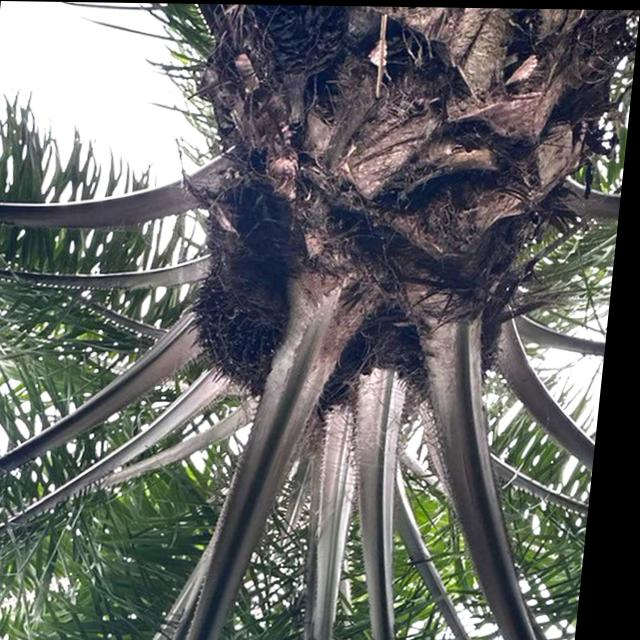unripe: (181, 250, 320, 407), (380, 305, 522, 423)
